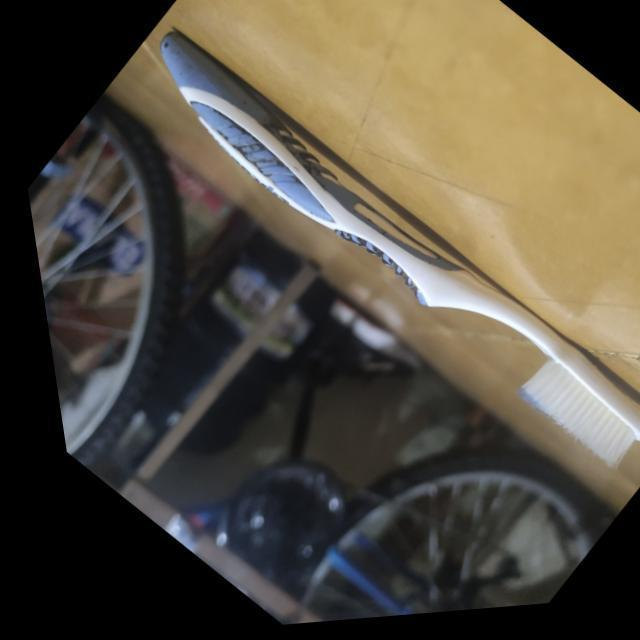toothbrush: (99, 0, 640, 524)
